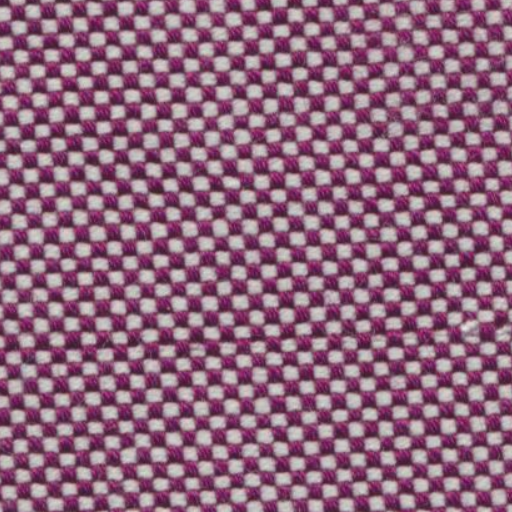TuoSha: (12, 288, 504, 379)
